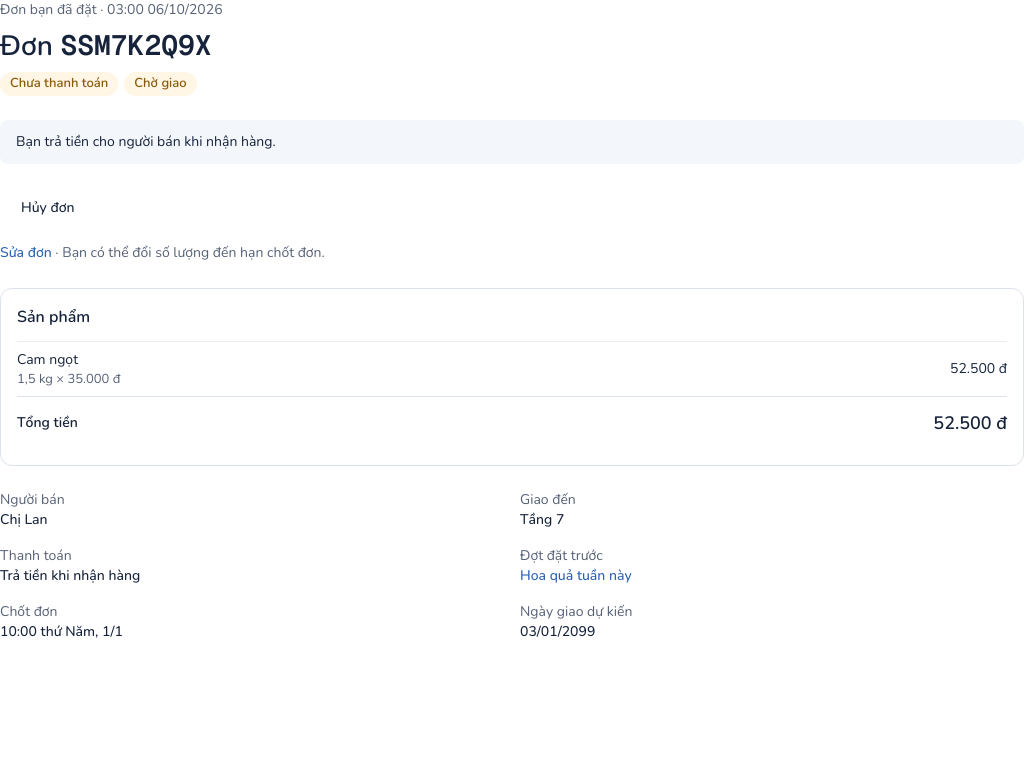
Test: editing an order › shows the ordered price of an ordered product and the current one of the others
Click the button "Sửa đơn" at [26, 252], box [0,242,52,262]
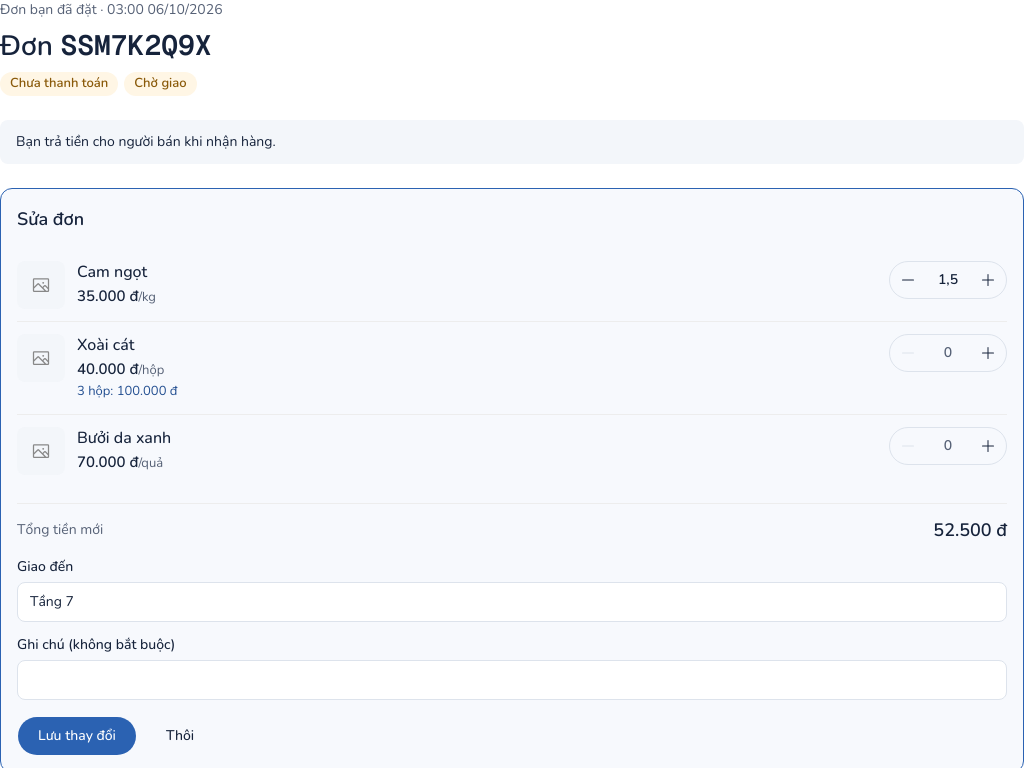
expect the list item "Cam ngọt" does not show "38.000": met, box [17,248,1007,320]
expect the list item "Cam ngọt" shows "35.000 đ/kg": met, box [17,248,1007,320]
expect the list item "Bưởi da xanh" shows "70.000 đ/quả": met, box [17,414,1007,486]
